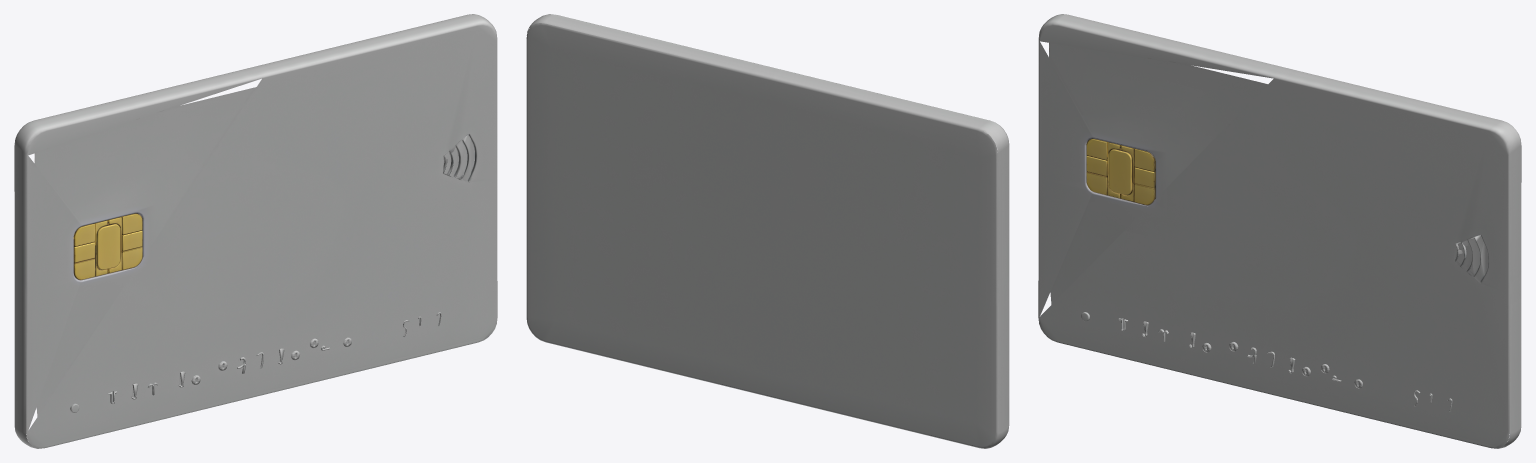
The model's file is cartao.glb.
3 renders of one model, left to right at view 1: azimuth 30°, elevation 25°; view 2: azimuth 150°, elevation 25°; view 3: azimuth 330°, elevation 25°, orthographic.
Visible parts, largest first — view 1: tripo_4251a9ce_3336_41a9_bbc2_5d6fc9fae1f4; view 2: tripo_4251a9ce_3336_41a9_bbc2_5d6fc9fae1f4; view 3: tripo_4251a9ce_3336_41a9_bbc2_5d6fc9fae1f4.
Part boxes in pixels (x1,y1,x2,y2): tripo_4251a9ce_3336_41a9_bbc2_5d6fc9fae1f4: [14, 14, 497, 448]; tripo_4251a9ce_3336_41a9_bbc2_5d6fc9fae1f4: [526, 14, 1009, 448]; tripo_4251a9ce_3336_41a9_bbc2_5d6fc9fae1f4: [1038, 14, 1521, 448].
Size of the model in its own units: 0.9995 by 0.6499 by 0.0503.
Materials: 1 (1 with a texture image).
